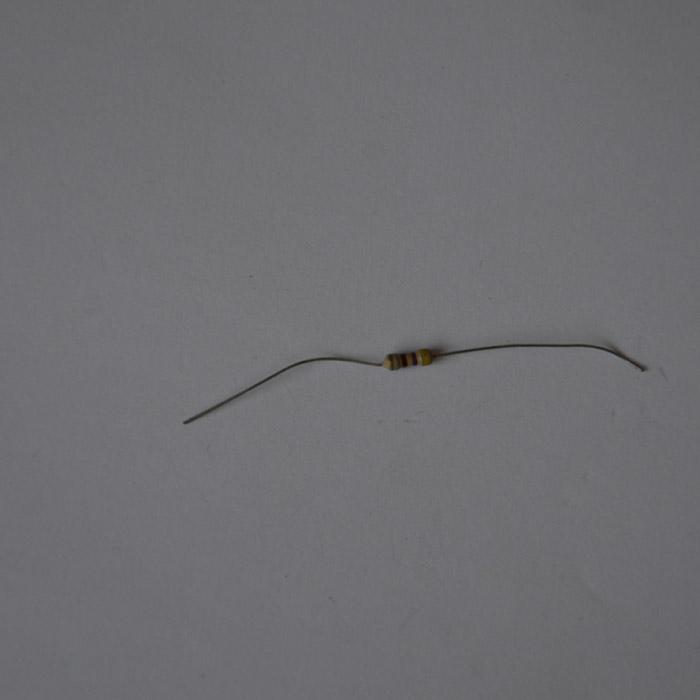resistor: (348, 263, 370, 318)
